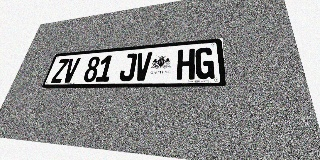1: (95, 55, 114, 82)
8: (82, 56, 102, 82)
G: (195, 47, 215, 79)
H: (176, 48, 195, 80)
J: (118, 53, 137, 81)
V: (133, 52, 152, 81), (61, 58, 81, 83)
Z: (50, 58, 70, 83)
